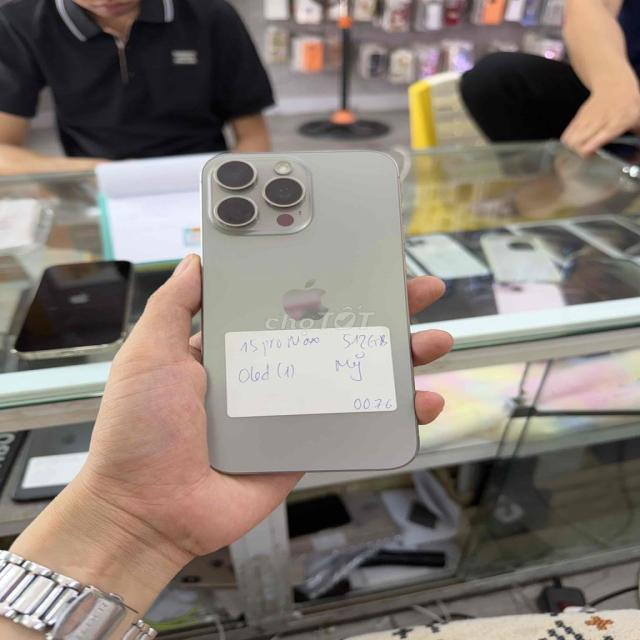gen_15: (182, 133, 433, 494)
